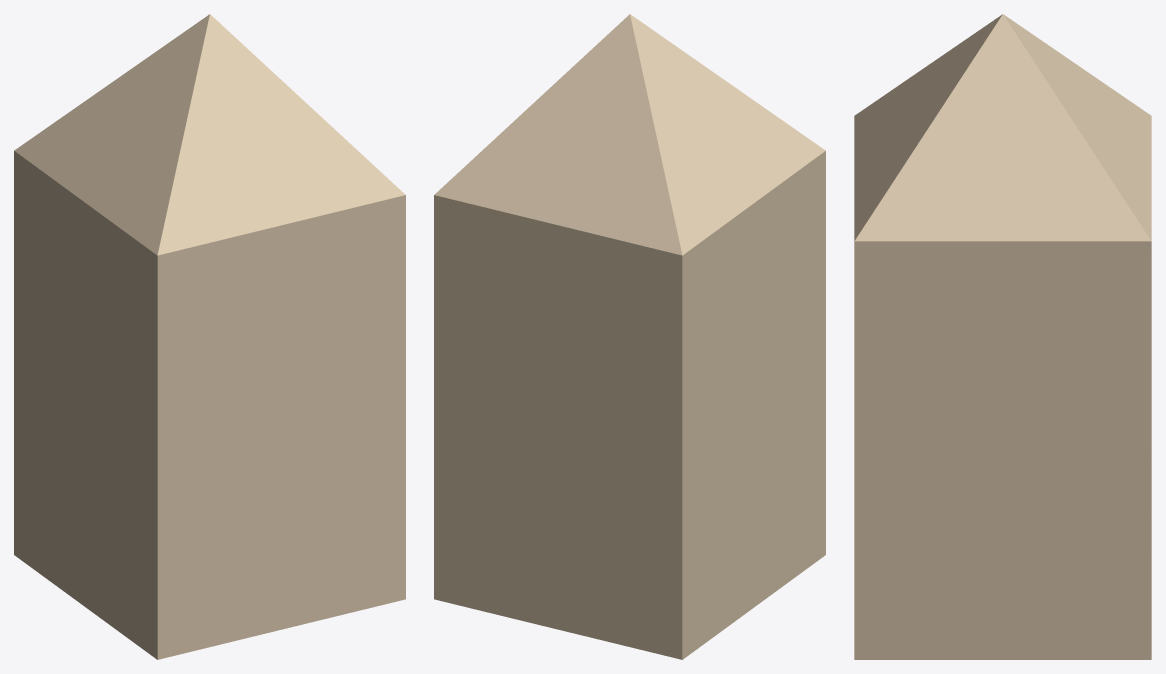
Rendered from kit_tower_a.glb.
3 views of the same model, side by side, from view 1: azimuth 30°, elevation 25°; view 2: azimuth 150°, elevation 25°; view 3: azimuth 270°, elevation 25° (orthographic). The views are drawn at different scales.
Parts seen in each view (by area): view 1: kit_tower_a; view 2: kit_tower_a; view 3: kit_tower_a.
Boxes of the visible parts, box(x1,y1,x2,y2) form: kit_tower_a: box(14, 14, 405, 659); kit_tower_a: box(434, 14, 825, 659); kit_tower_a: box(854, 14, 1151, 659).
Bounding box in the file's own units: 0.9 × 1.95 × 0.9.
